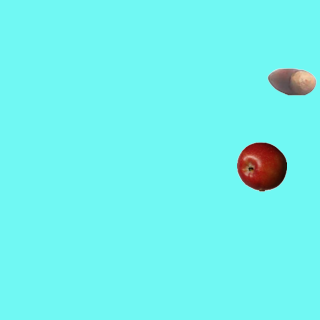Apple Braeburn: (236, 141, 286, 191)
Hazelnut: (266, 56, 316, 106)
